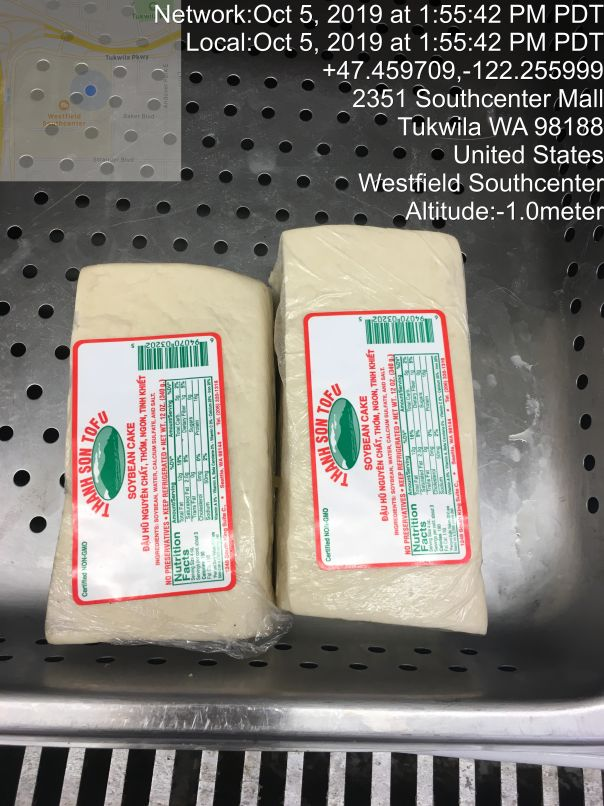Location: (344, 80, 604, 198)
Thanh son tofu: (61, 239, 270, 677), (278, 213, 487, 651)
Time: (150, 1, 604, 56)
